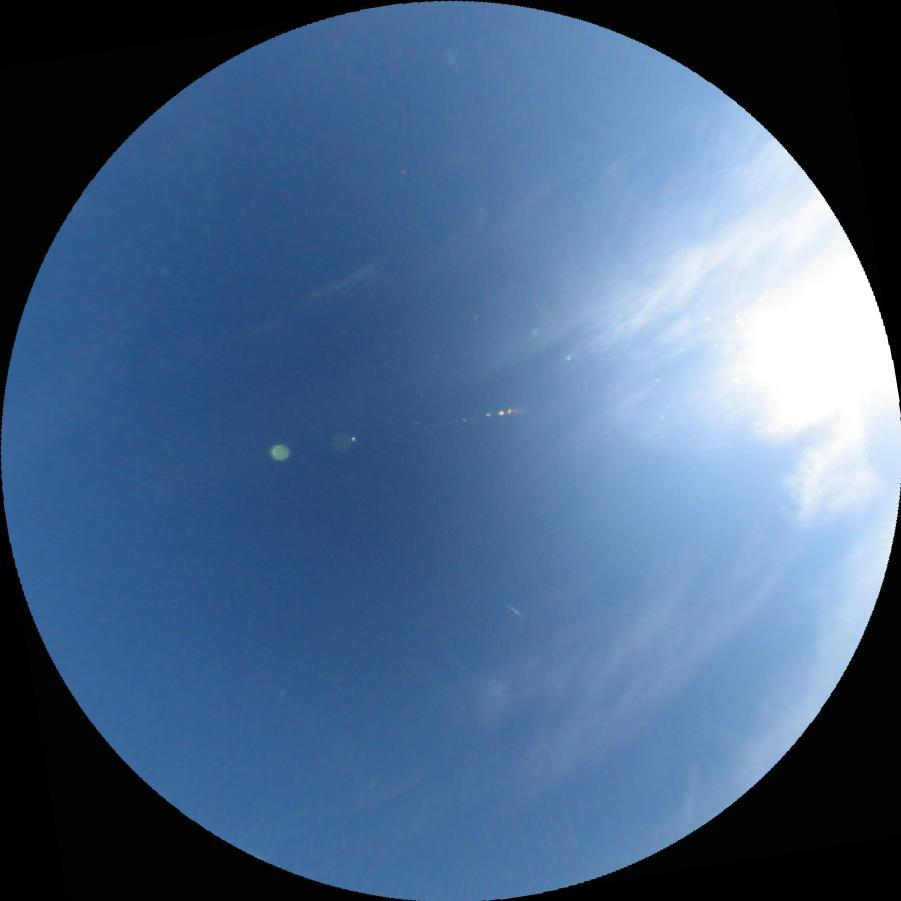sun: (736, 262, 901, 427)
unknow: (505, 603, 521, 615)
